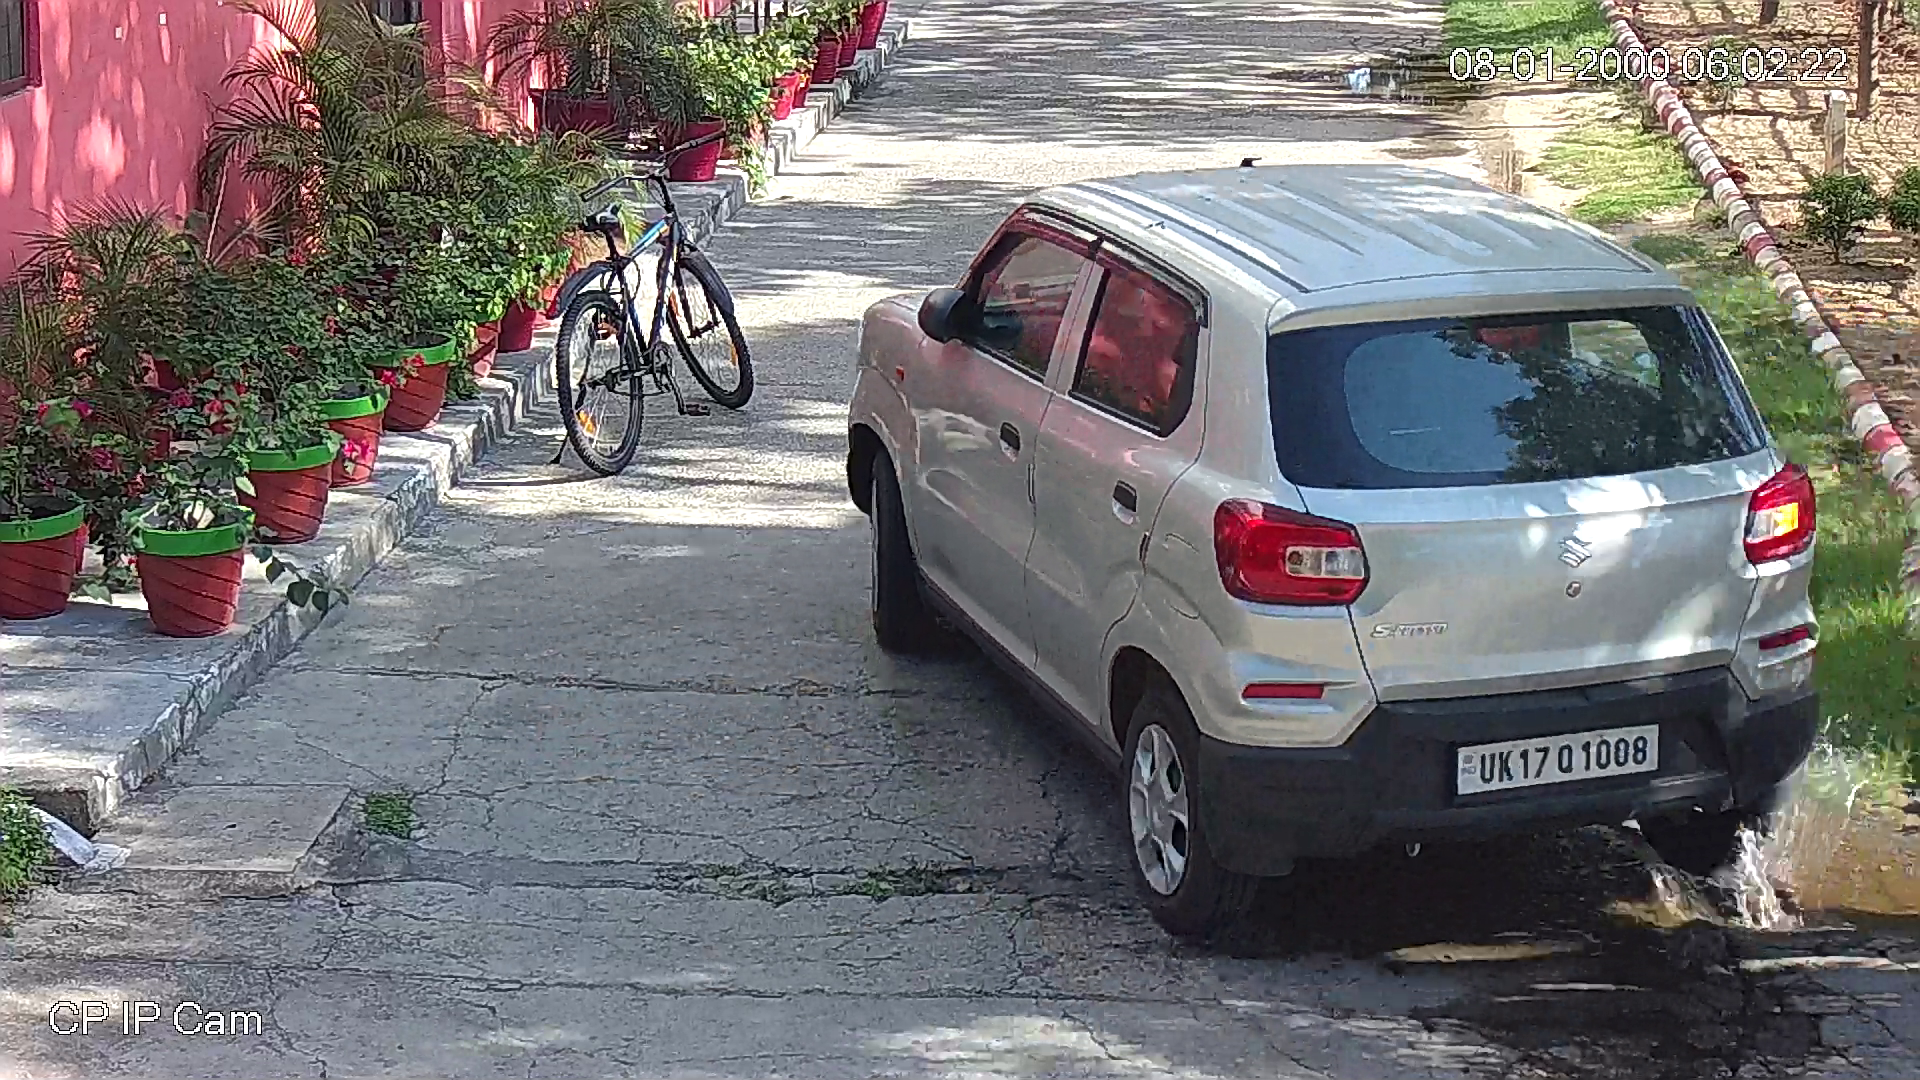plate: (1454, 718, 1657, 797)
